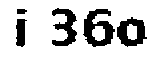3: (48, 6, 78, 50)
6: (82, 5, 114, 51)
i: (12, 3, 32, 51)
o: (116, 16, 147, 48)
